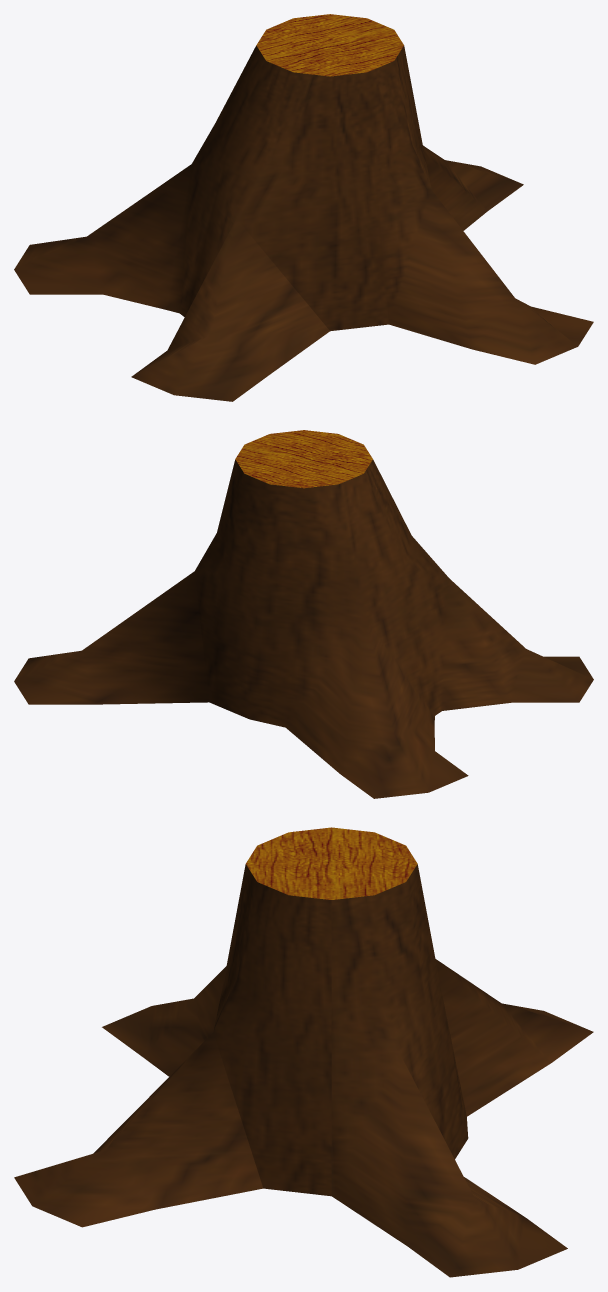
The model's file is souche.FBX.
3 renders of one model, top to bottom at view 1: azimuth 30°, elevation 25°; view 2: azimuth 150°, elevation 25°; view 3: azimuth 270°, elevation 25°, orthographic. The views are drawn at different scales.
Visible parts, largest first — view 1: souche; view 2: souche; view 3: souche.
Boxes of the visible parts, x1=… form: souche: x1=14, y1=14, x2=593, y2=401; souche: x1=14, y1=430, x2=593, y2=798; souche: x1=14, y1=827, x2=593, y2=1277.
Size of the model in its own units: 2.63 by 1.21 by 2.31.
